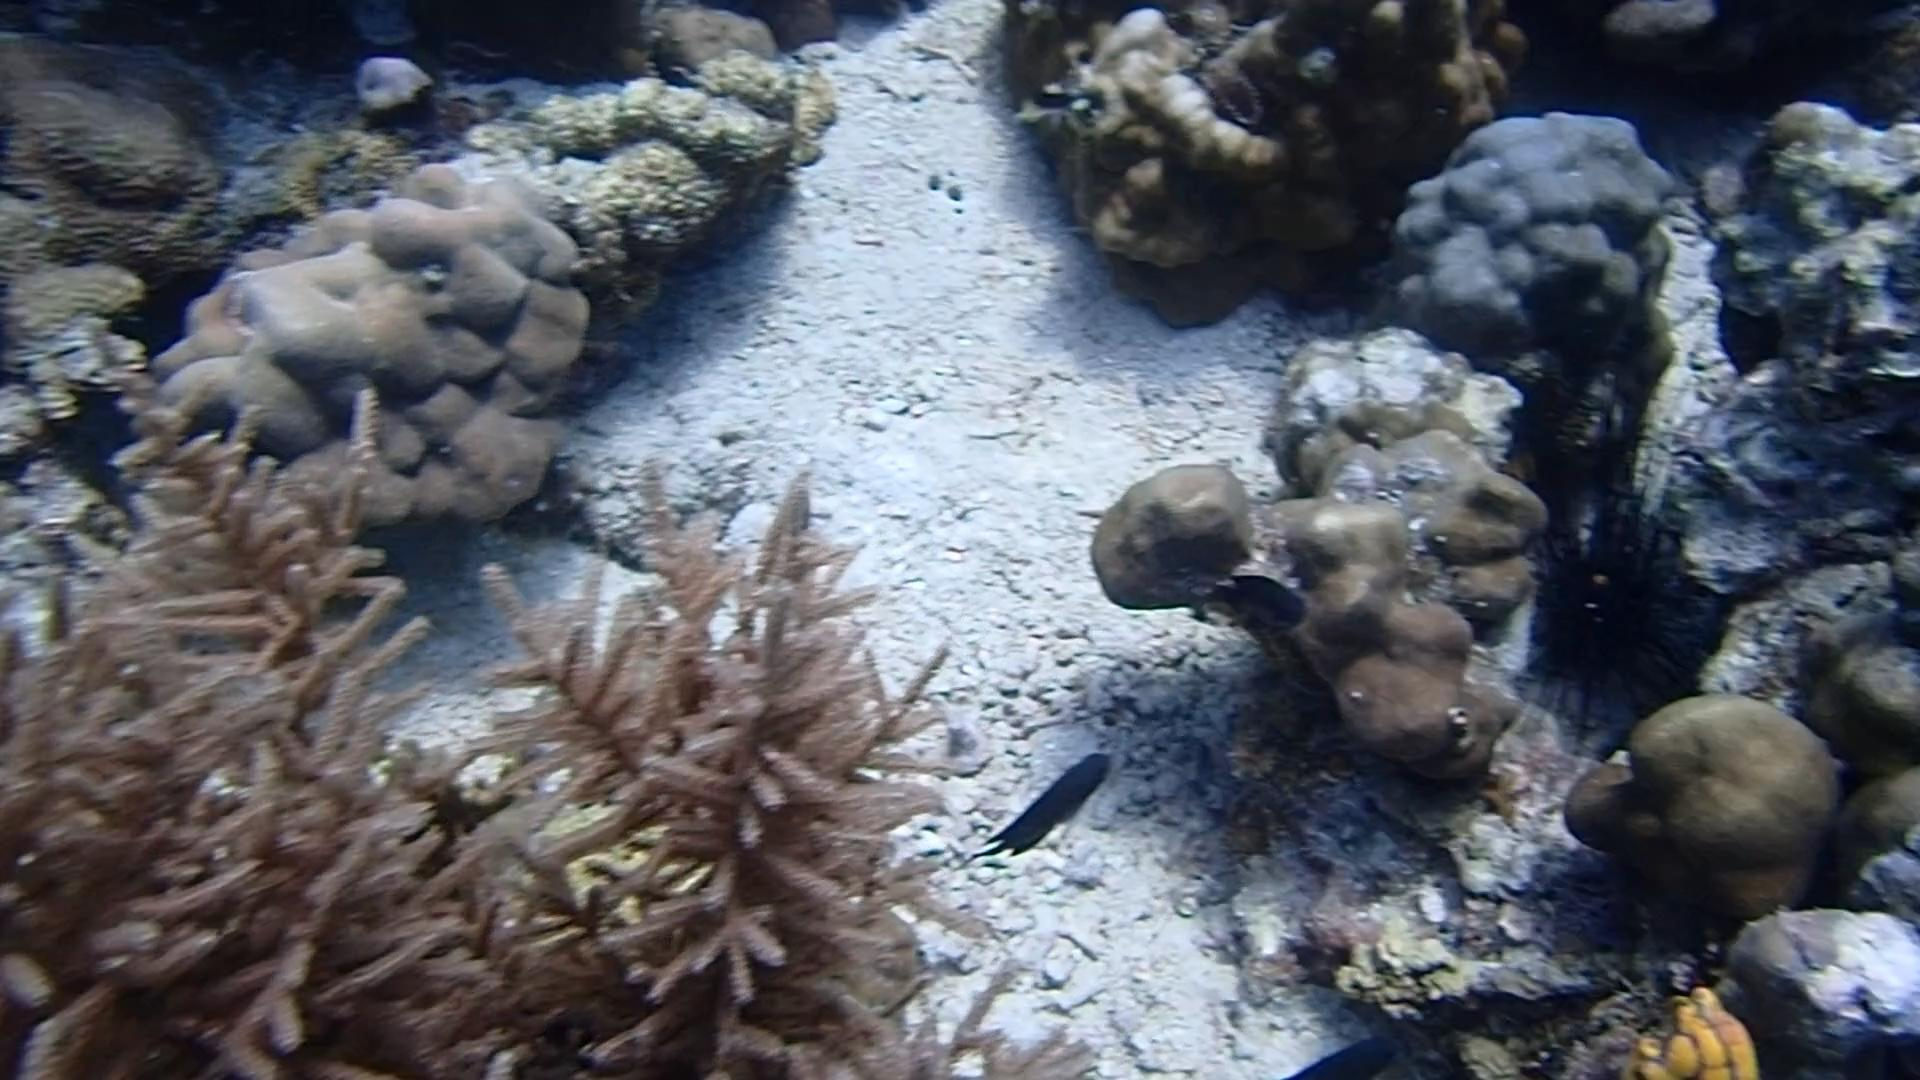Dark Fish: (965, 748, 1127, 866), (1196, 564, 1309, 640)
Yellow Tail: (1002, 73, 1091, 132)
